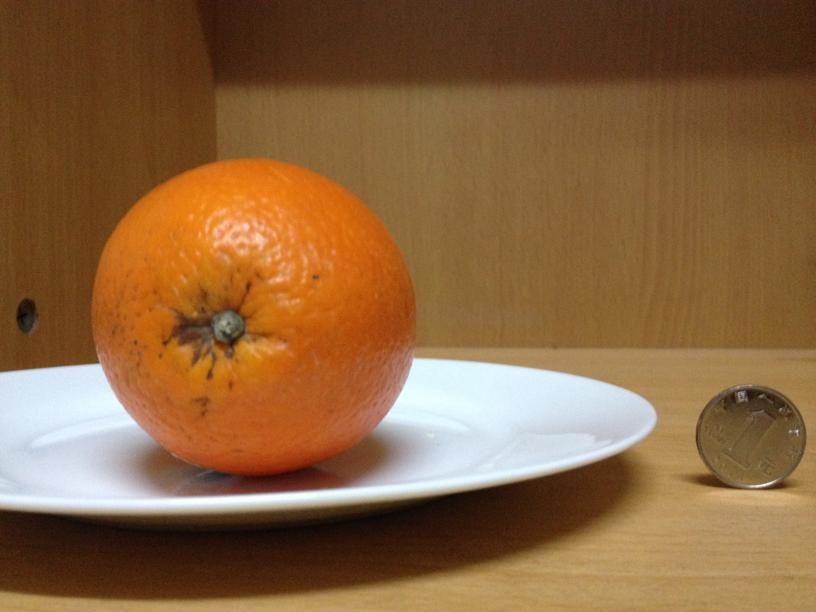coin: (693, 383, 805, 490)
orange: (90, 154, 417, 471)
